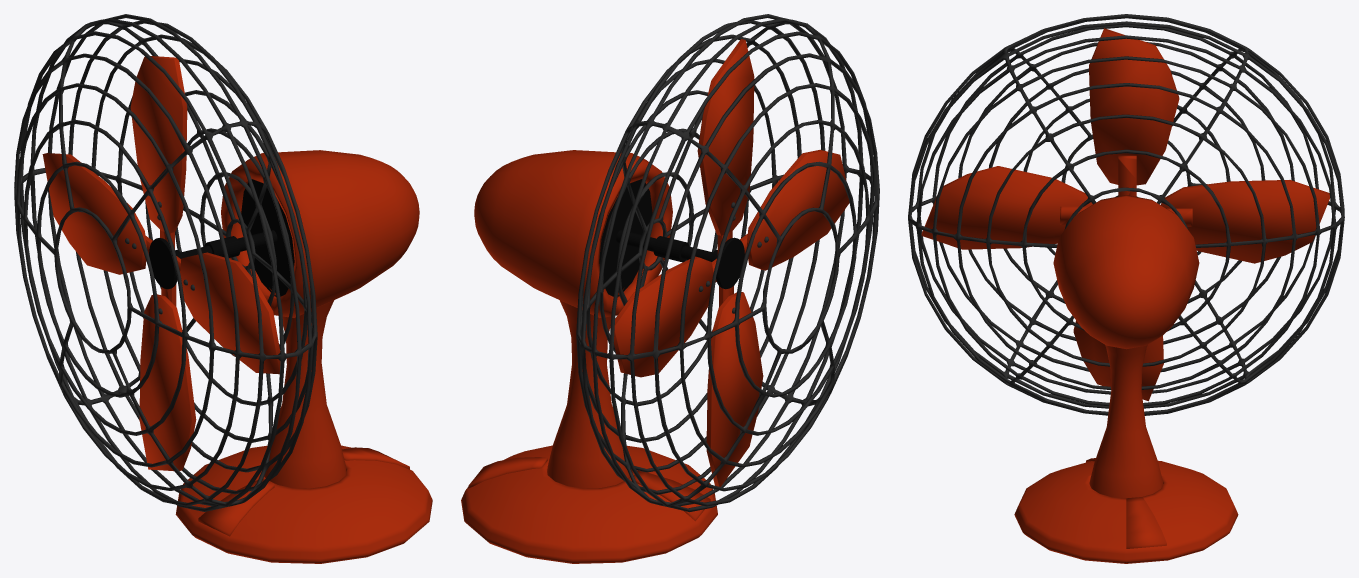
File: fan.obj
3 renders of one model, left to right at view 1: azimuth 30°, elevation 25°; view 2: azimuth 150°, elevation 25°; view 3: azimuth 270°, elevation 25°, orthographic. The views are drawn at different scales.
Visible parts, largest first — view 1: grade, helice, base, suporte-eixo, eixo; view 2: grade, helice, base, suporte-eixo, eixo; view 3: grade, helice, base, suporte-eixo.
Boxes of the visible parts, x1,y1,x2,y2 form: grade: [14, 14, 317, 511]; helice: [42, 56, 280, 471]; base: [175, 288, 432, 563]; suporte-eixo: [221, 150, 419, 317]; eixo: [149, 179, 294, 296]; grade: [576, 14, 879, 512]; helice: [609, 39, 849, 486]; base: [461, 287, 717, 563]; suporte-eixo: [474, 150, 672, 317]; eixo: [599, 179, 744, 296]; grade: [908, 14, 1344, 415]; helice: [921, 28, 1329, 401]; base: [1014, 344, 1238, 563]; suporte-eixo: [1053, 195, 1199, 349].
Bounding box in the file's own units: 1.49 × 2.24 × 2.
